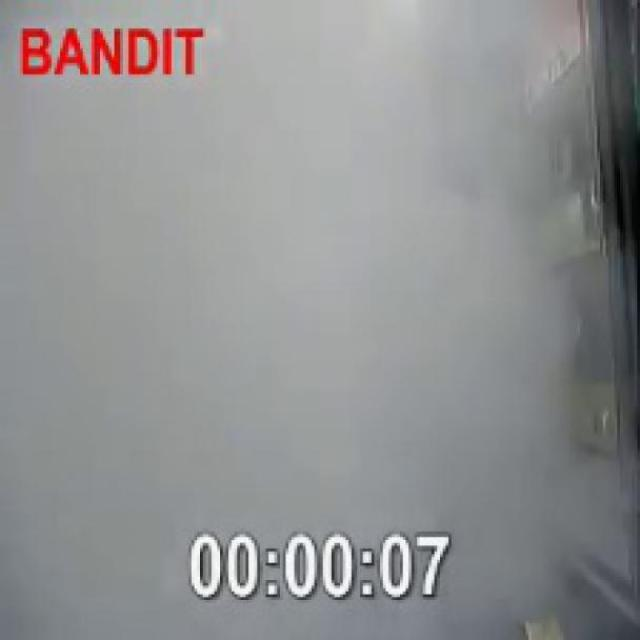Smoke: (74, 90, 586, 516)
